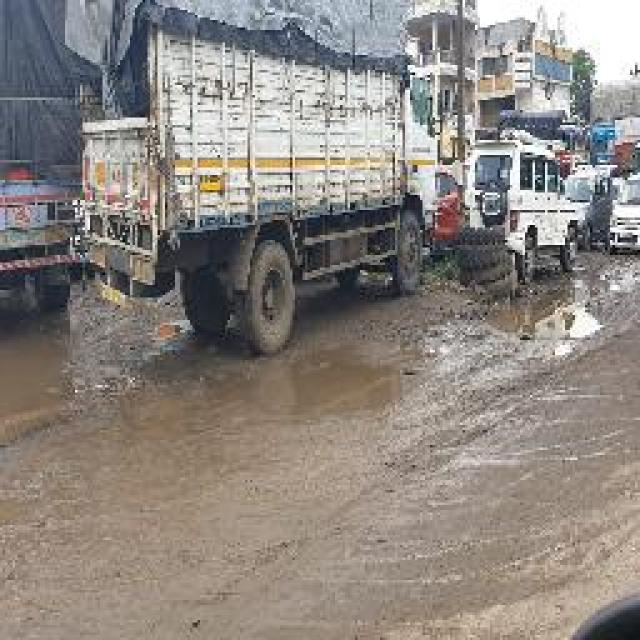stagnation: (203, 328, 422, 433), (0, 289, 104, 452)
